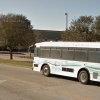Bus: (27, 36, 100, 84)
